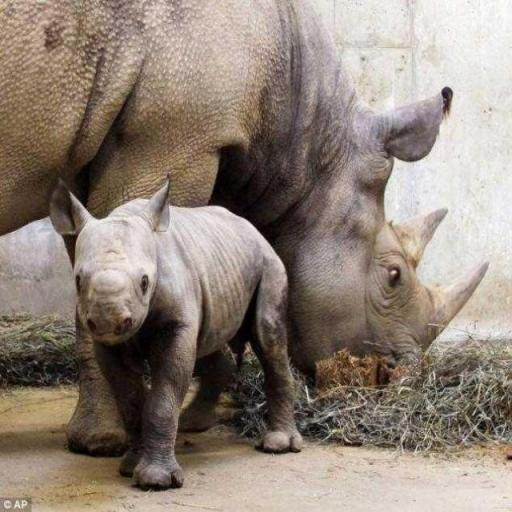Rhino: (0, 0, 489, 420), (48, 171, 304, 490)
